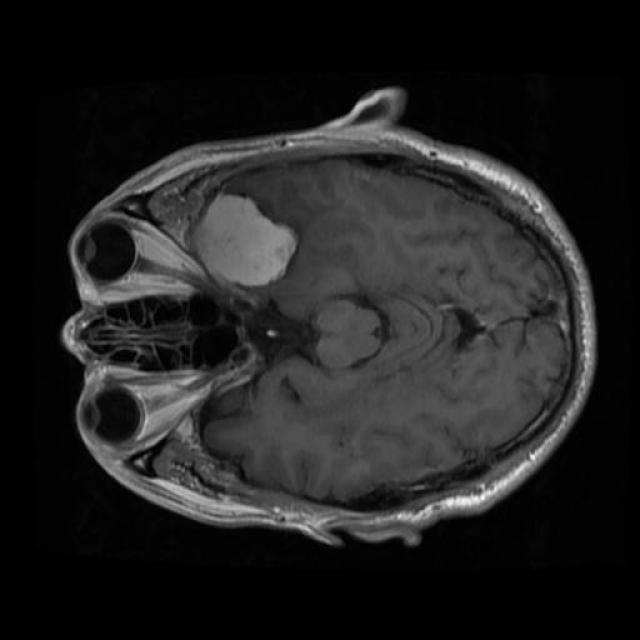Meningioma: (190, 194, 297, 287)
